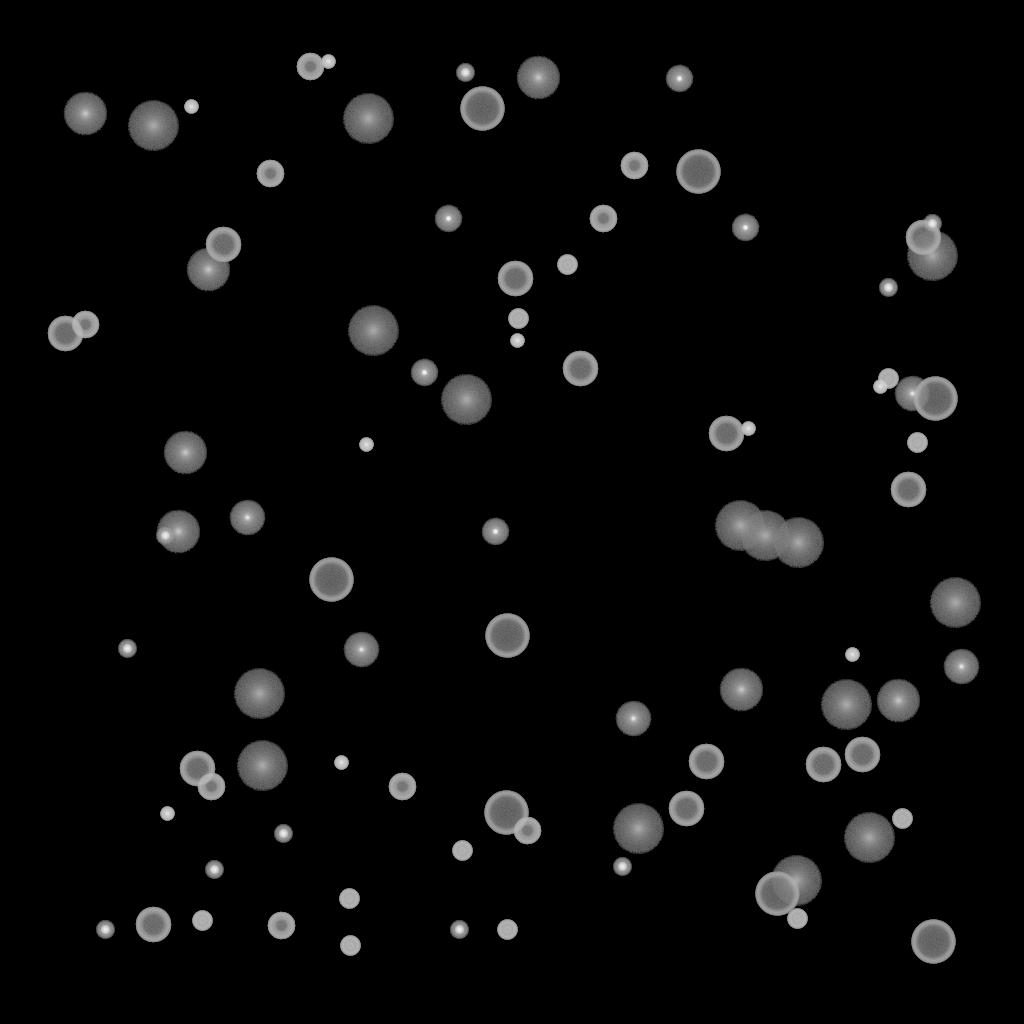depth:-10: (410, 359, 438, 387), (434, 205, 462, 233), (731, 214, 759, 242), (481, 518, 509, 546), (665, 65, 693, 93)
depth:-20: (879, 279, 897, 297), (613, 858, 631, 876), (118, 640, 136, 658), (96, 921, 114, 939), (450, 921, 468, 939), (456, 64, 474, 82), (923, 215, 941, 233), (156, 527, 174, 545), (205, 861, 223, 879), (274, 825, 292, 843)
depth:-30: (873, 380, 887, 394), (321, 55, 335, 69), (510, 334, 524, 348), (184, 100, 198, 114), (334, 756, 348, 770), (741, 422, 755, 436), (845, 648, 859, 662), (160, 807, 174, 821), (359, 438, 373, 452)
depth:-40: (878, 369, 898, 389), (452, 841, 472, 861), (557, 255, 577, 275), (192, 911, 212, 931), (787, 909, 807, 929), (892, 809, 912, 829), (339, 889, 359, 909), (508, 309, 528, 329), (497, 920, 517, 940), (907, 433, 927, 453), (340, 936, 360, 956)
depth:-50: (256, 160, 284, 188), (513, 817, 541, 845), (296, 53, 324, 81), (197, 773, 225, 801), (589, 205, 617, 233), (267, 912, 295, 940), (71, 311, 99, 339), (620, 152, 648, 180), (388, 773, 416, 801)
depth:-60: (205, 227, 241, 263), (890, 472, 926, 508), (562, 351, 598, 387), (135, 907, 171, 943), (688, 744, 724, 780), (708, 416, 744, 452), (844, 737, 880, 773), (805, 747, 841, 783), (179, 751, 215, 787), (668, 791, 704, 827), (497, 261, 533, 297), (905, 220, 941, 256), (47, 316, 83, 352)
depth:-70: (460, 87, 504, 131), (485, 614, 529, 658), (911, 920, 955, 964), (676, 150, 720, 194), (484, 791, 528, 835), (913, 377, 957, 421), (309, 558, 353, 602), (755, 872, 799, 916)
depth:0: (615, 701, 651, 737), (229, 500, 265, 536), (343, 632, 379, 668), (943, 649, 979, 685), (894, 376, 930, 412)
depth:10: (163, 431, 207, 475), (876, 679, 920, 723), (719, 668, 763, 712), (63, 92, 107, 136), (516, 56, 560, 100), (156, 510, 200, 554), (186, 248, 230, 292)
depth:20: (906, 231, 958, 281), (772, 518, 824, 568), (347, 306, 399, 356), (770, 856, 822, 906), (739, 511, 791, 561), (929, 578, 981, 628), (843, 813, 895, 863), (612, 804, 664, 854), (440, 375, 492, 425), (714, 501, 766, 551), (820, 680, 872, 730), (233, 669, 285, 719), (342, 94, 394, 144), (127, 101, 179, 151), (236, 741, 288, 791)
